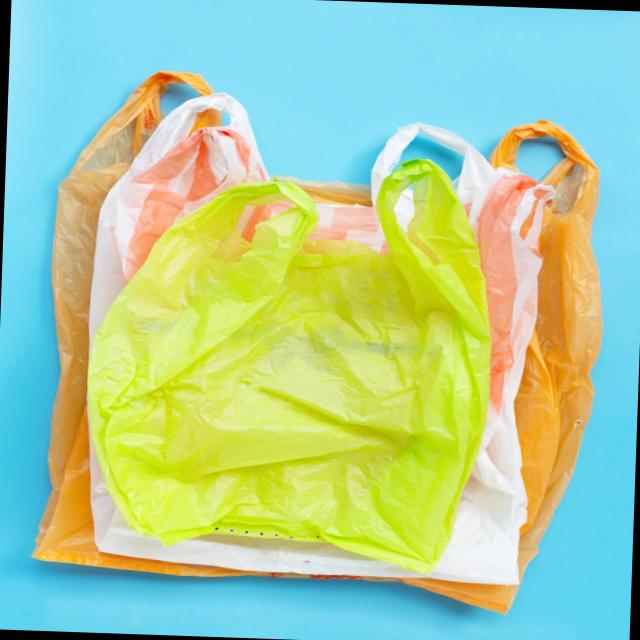plastic_bag: (74, 144, 500, 557)
